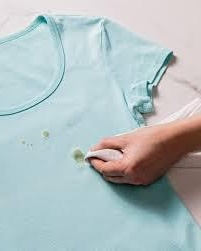oil: (69, 146, 84, 166), (40, 129, 52, 142), (19, 140, 34, 149)
